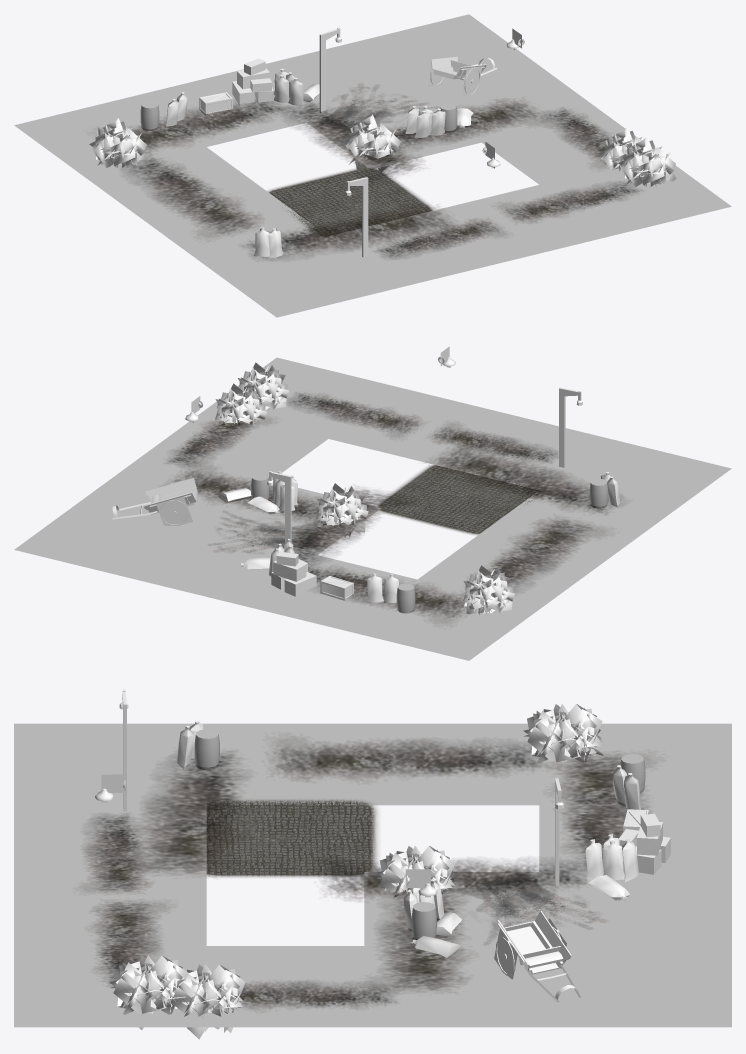
File: propsonly_bakery4.gltf
3 views of the same model, one above another, from view 1: azimuth 30°, elevation 25°; view 2: azimuth 150°, elevation 25°; view 3: azimuth 270°, elevation 25° (orthographic). The views are drawn at different scales.
Parts seen in each view (by area): view 1: file_b2_ground1.017, file_b2_ground1.019, file_b12_ground.003, file_b2_ground1.021, file_b2_ground1.020, file_b2_ground1.057, file_b2_ground3.010, file_b2_ground2.003, file_b2_ground1.022, file_b2_ground3.009, file_industrial, file_industrial_corner_thinl.001 (+21 smaller); view 2: file_b2_ground1.020, file_b2_ground1.017, file_b2_ground2.003, file_b2_ground1.057, file_b2_ground1.022, file_industrial_corner_thinl.001, file_b2_ground1.019, file_industrial, file_b12_ground.003, file_b2_ground3.009, file_b2_ground3.010, file_b2_ground1.021 (+22 smaller); view 3: file_b2_ground1.017, file_b2_ground2.003, file_b2_ground1.019, file_b2_ground1.020, file_b2_ground1.021, file_industrial, file_b12_ground.003, file_b2_ground1.057, file_b2_ground1.022, file_b2_ground3.009, file_industrial_corner_thinl.001, file_b2_ground3.010 (+27 smaller).
Part boxes in pixels (x1=…): file_b2_ground1.017: x1=318, y1=209, x2=509, y2=290; file_b2_ground1.019: x1=85, y1=142, x2=269, y2=223; file_b12_ground.003: x1=206, y1=237, x2=387, y2=317; file_b2_ground1.021: x1=412, y1=61, x2=603, y2=142; file_b2_ground1.020: x1=142, y1=189, x2=324, y2=270; file_b2_ground1.057: x1=429, y1=185, x2=609, y2=260; file_b2_ground3.010: x1=546, y1=165, x2=731, y2=236; file_b2_ground2.003: x1=348, y1=14, x2=538, y2=95; file_b2_ground1.022: x1=477, y1=108, x2=641, y2=189; file_b2_ground3.009: x1=236, y1=41, x2=427, y2=122; file_industrial: x1=267, y1=167, x2=434, y2=236; file_industrial_corner_thinl.001: x1=14, y1=95, x2=199, y2=176; file_b2_ground1.020: x1=475, y1=488, x2=660, y2=566; file_b2_ground1.017: x1=438, y1=412, x2=620, y2=492; file_b2_ground2.003: x1=14, y1=503, x2=206, y2=579; file_b2_ground1.057: x1=327, y1=387, x2=508, y2=465; file_b2_ground1.022: x1=149, y1=404, x2=333, y2=482; file_industrial_corner_thinl.001: x1=347, y1=579, x2=532, y2=660; file_b2_ground1.019: x1=411, y1=537, x2=603, y2=613; file_industrial: x1=376, y1=465, x2=542, y2=534; file_b12_ground.003: x1=557, y1=441, x2=731, y2=519; file_b2_ground3.009: x1=126, y1=533, x2=310, y2=606; file_b2_ground3.010: x1=207, y1=357, x2=398, y2=438; file_b2_ground1.021: x1=78, y1=451, x2=251, y2=532; file_b2_ground1.017: x1=14, y1=797, x2=206, y2=879; file_b2_ground2.003: x1=539, y1=946, x2=731, y2=1027; file_b2_ground1.019: x1=364, y1=723, x2=556, y2=805; file_b2_ground1.020: x1=189, y1=723, x2=381, y2=805; file_b2_ground1.021: x1=364, y1=946, x2=556, y2=1027; file_industrial: x1=199, y1=799, x2=377, y2=877; file_b12_ground.003: x1=14, y1=723, x2=206, y2=805; file_b2_ground1.057: x1=14, y1=879, x2=206, y2=945; file_b2_ground1.022: x1=206, y1=946, x2=381, y2=1027; file_b2_ground3.009: x1=539, y1=872, x2=731, y2=953; file_industrial_corner_thinl.001: x1=539, y1=723, x2=731, y2=805; file_b2_ground3.010: x1=14, y1=946, x2=206, y2=1027.
Size of the model in its own units: 4.1 by 0.8991 by 4.1.
